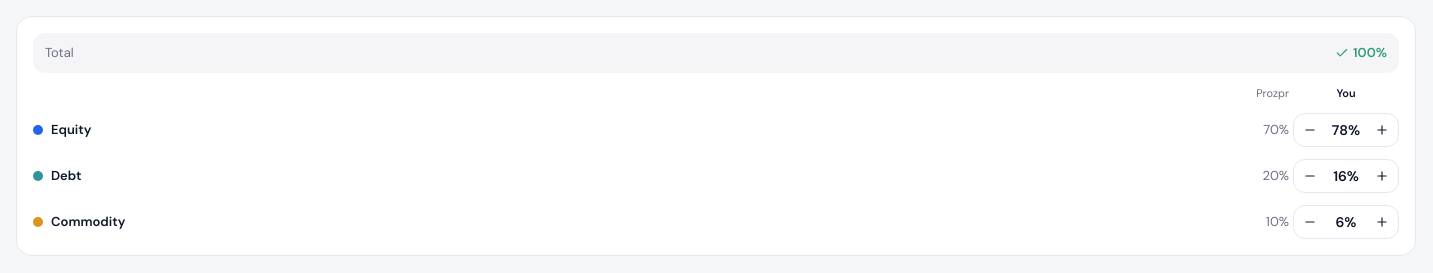
Test: AssetMixCard › says how far the mix is from a hundred (Increase Commodity)
The image size is (1433, 273).
Click the button named "Increase Commodity" at (1382, 222), box 1366,206 -> 1398,238
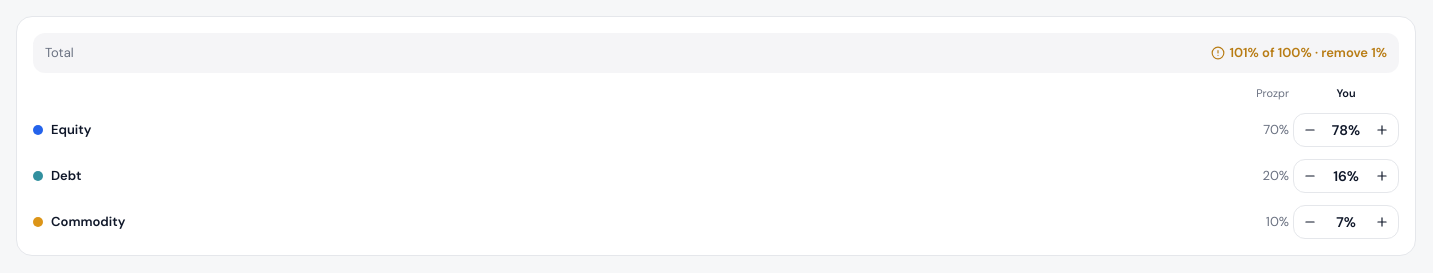
Click the button named "Increase Commodity" at (1382, 222), box 1366,206 -> 1398,238
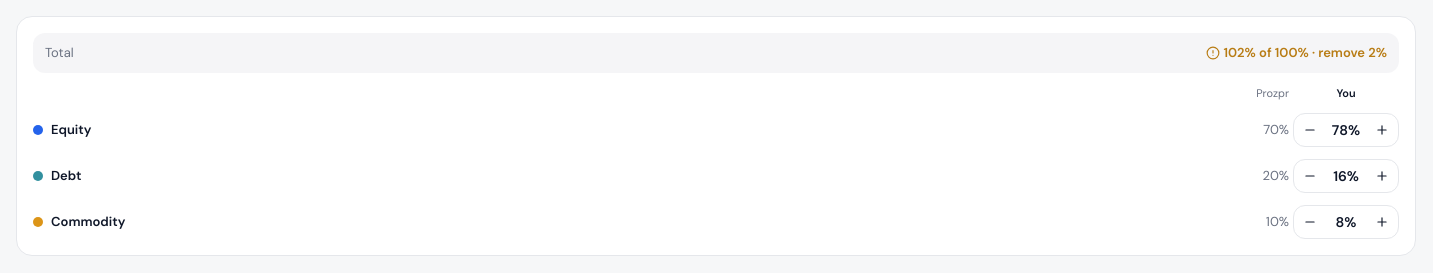
Click the button named "Increase Commodity" at (1382, 222), box 1366,206 -> 1398,238
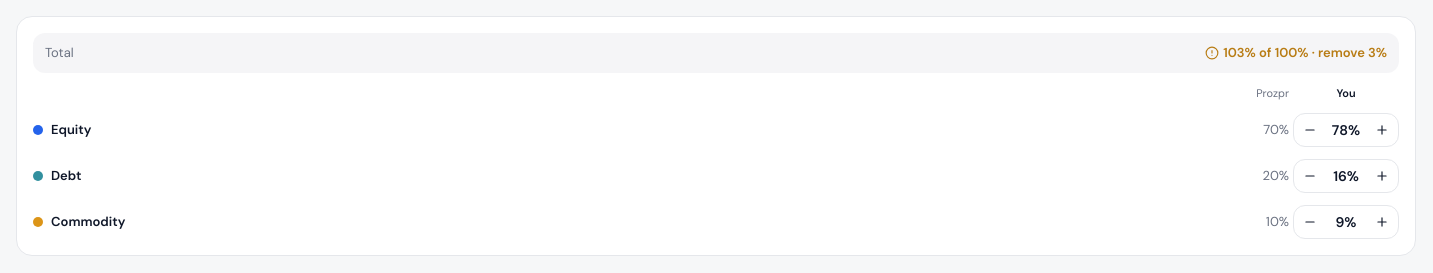
Expected: the message shows "103% of 100% · remove 3%", 1223,44 -> 1387,61
